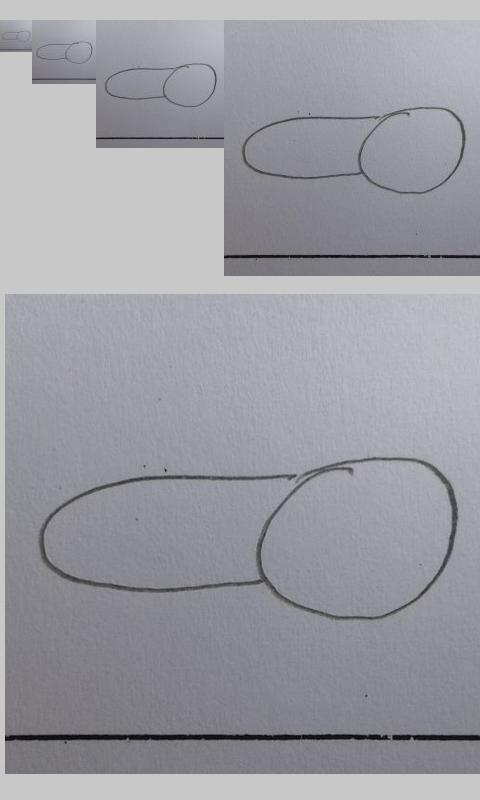switch: (39, 455, 461, 622), (242, 106, 467, 195), (104, 63, 218, 107), (36, 41, 93, 64), (1, 29, 31, 43)
